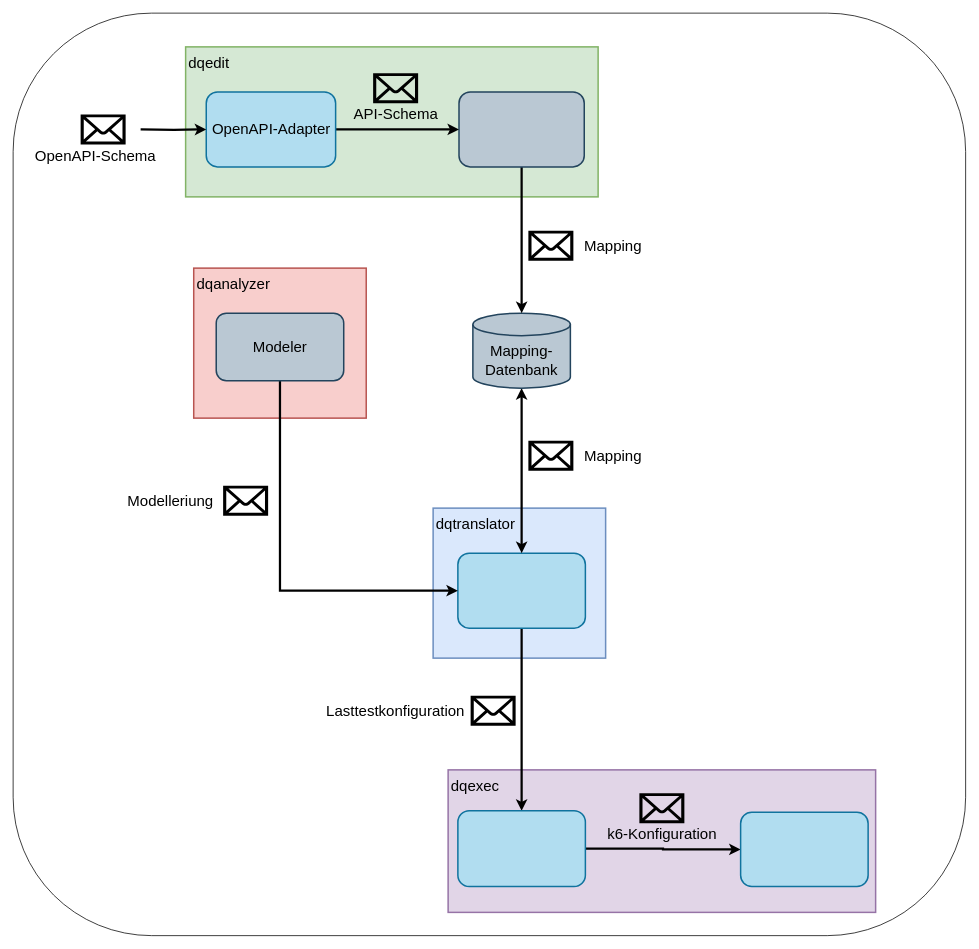
Some shapes in this 979 by 949 pixel diagram are drawn without their labels. The centre of each missing label's shape, as x and y in pixels:
"k6-Adapter" belongs at point 521,848.
"k6-Configuration- Runner" belongs at point 804,849.
"Mapping-Editor" belongs at point 521,129.
"Translator" belongs at point 521,590.
